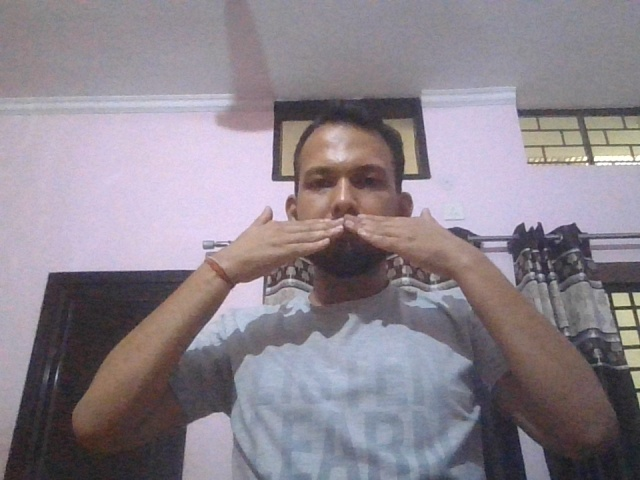thanks: (207, 206, 506, 284)
